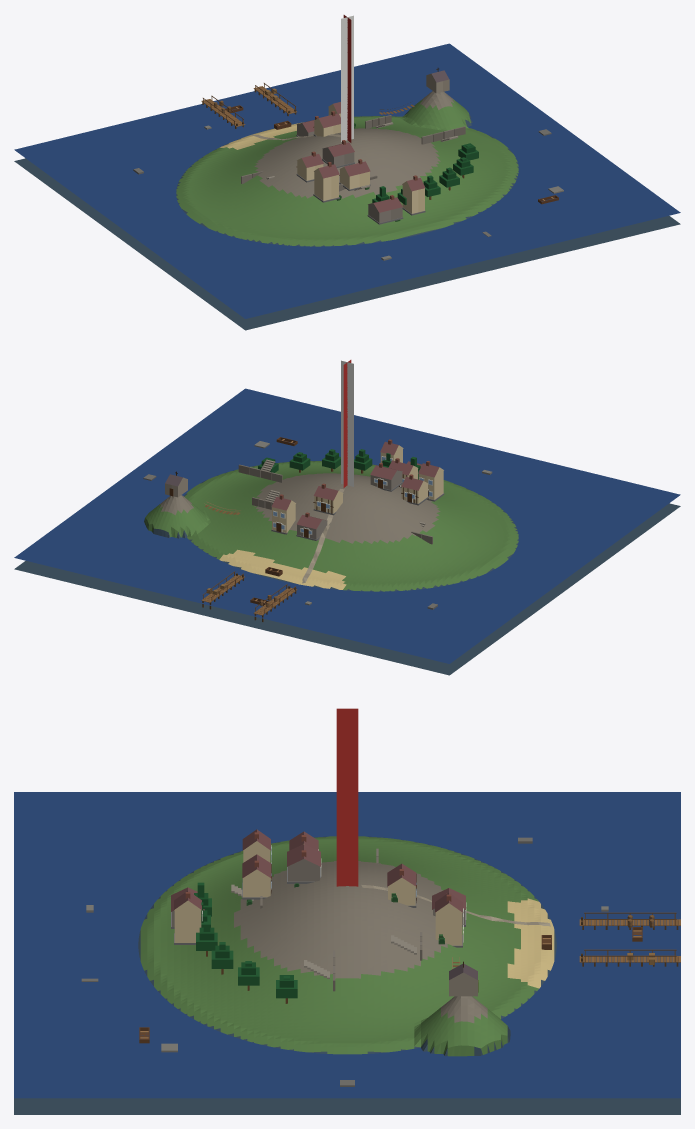
The model's file is scene_bad_v4_rect.obj.
The picture shows the model from 3 angles, top to bottom: view 1: azimuth 30°, elevation 25°; view 2: azimuth 150°, elevation 25°; view 3: azimuth 270°, elevation 25°; orthographic projection. The views are drawn at different scales.
Parts seen in each view (by area): view 1: water, terrain, lighthouse_tower, house_3_two_story, house_8_stone, house_9_two_story, house_4_timber, house_2_stone, house_1_timber, house_7_timber; view 2: water, terrain, lighthouse_tower, house_6_two_story, house_3_two_story, house_7_timber, house_2_stone, house_1_timber, house_5_stone, wall_2, pier_1; view 3: water, terrain, lighthouse_tower, house_6_two_story, house_9_two_story, house_2_stone, house_4_timber, pier_2, house_7_timber, pier_1, chapel_1, house_3_two_story.
Boxes of the visible parts, x1,y1,x2,y2 form: water: (14,43,680,318); terrain: (14,91,680,330); lighthouse_tower: (341,15,353,142); house_3_two_story: (313,162,339,202); house_8_stone: (367,195,403,224); house_9_two_story: (402,175,425,215); house_4_timber: (339,159,370,190); house_2_stone: (322,140,354,167); house_1_timber: (296,151,323,182); house_7_timber: (313,111,340,136); water: (14,388,680,663); terrain: (14,461,680,675); lighthouse_tower: (341,360,353,487); house_6_two_story: (271,494,295,534); house_3_two_story: (418,461,444,501); house_7_timber: (313,483,343,515); house_2_stone: (370,463,402,491); house_1_timber: (401,474,428,505); house_5_stone: (296,512,327,540); wall_2: (238,459,282,482); pier_1: (253,584,297,621); water: (14,792,680,1098); terrain: (14,836,680,1114); lighthouse_tower: (336,708,358,886); house_6_two_story: (435,892,463,947); house_9_two_story: (174,891,202,944); house_2_stone: (287,844,321,883); house_4_timber: (242,854,271,899); pier_2: (579,949,680,966); house_7_timber: (387,863,416,907); pier_1: (579,912,680,929); chapel_1: (449,961,478,996); house_3_two_story: (242,829,271,882).
Bounding box in the file's own units: 100 × 38.5 × 92.
